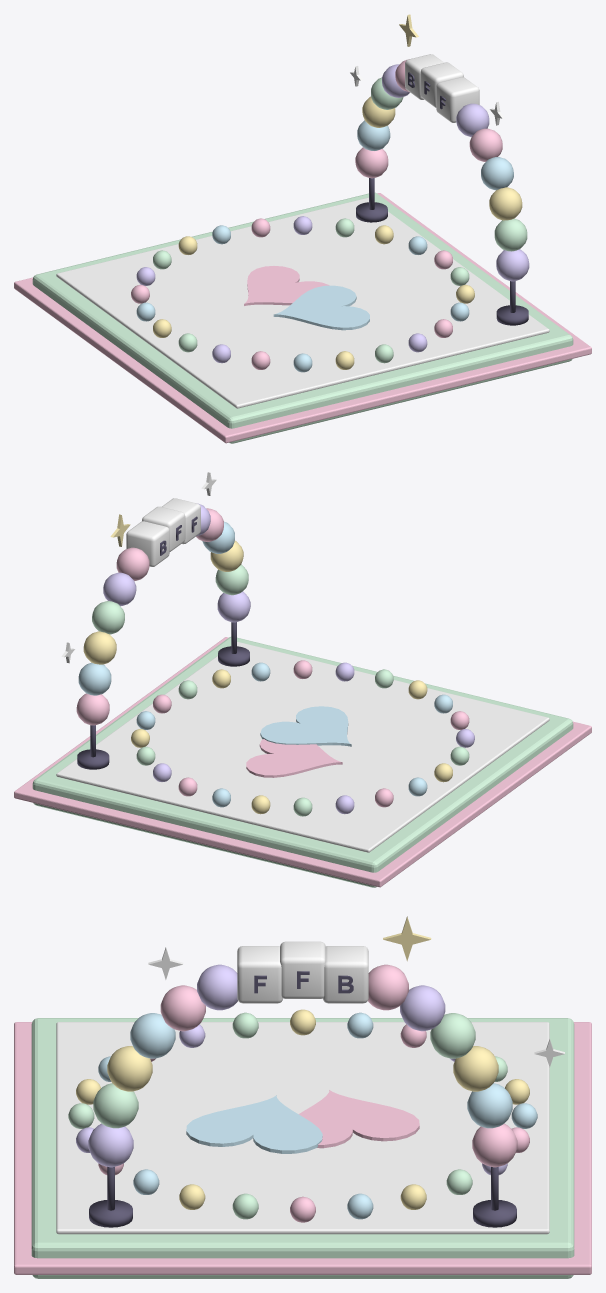
The model's file is FriendshipStage.fbx.
3 renders of one model, top to bottom at view 1: azimuth 30°, elevation 25°; view 2: azimuth 150°, elevation 25°; view 3: azimuth 270°, elevation 25°, orthographic. The views are drawn at different scales.
Visible parts, largest first — view 1: FFFFFF, A7E9B8, FF9EC4_Neon, 9ED8F5, FF9EC4, B9A6FF, FFE07A, 1E1B2E; view 2: FFFFFF, A7E9B8, FF9EC4_Neon, FF9EC4, 9ED8F5, B9A6FF, FFE07A, 1E1B2E; view 3: FFFFFF, A7E9B8, FF9EC4_Neon, 9ED8F5, FF9EC4, FFE07A, B9A6FF, 1E1B2E, FFFFFF_Neon, FFE07A_Neon.
Boxes of the visible parts, x1=… form: FFFFFF: x1=56, y1=54, x2=549, y2=408; A7E9B8: x1=32, y1=77, x2=573, y2=443; FF9EC4_Neon: x1=14, y1=193, x2=591, y2=443; 9ED8F5: x1=136, y1=120, x2=513, y2=372; FF9EC4: x1=131, y1=59, x2=502, y2=369; B9A6FF: x1=136, y1=64, x2=529, y2=363; FFE07A: x1=153, y1=96, x2=522, y2=369; 1E1B2E: x1=356, y1=72, x2=528, y2=325; FFFFFF: x1=56, y1=498, x2=549, y2=852; A7E9B8: x1=32, y1=564, x2=573, y2=887; FF9EC4_Neon: x1=14, y1=637, x2=591, y2=887; FF9EC4: x1=76, y1=508, x2=469, y2=807; 9ED8F5: x1=78, y1=521, x2=452, y2=807; B9A6FF: x1=103, y1=503, x2=474, y2=814; FFE07A: x1=83, y1=540, x2=452, y2=814; 1E1B2E: x1=77, y1=516, x2=249, y2=769; FFFFFF: x1=56, y1=941, x2=549, y2=1234; A7E9B8: x1=31, y1=1012, x2=574, y2=1278; FF9EC4_Neon: x1=14, y1=1022, x2=591, y2=1274; 9ED8F5: x1=98, y1=1012, x2=537, y2=1219; FF9EC4: x1=98, y1=964, x2=529, y2=1222; FFE07A: x1=76, y1=1009, x2=529, y2=1209; B9A6FF: x1=76, y1=964, x2=507, y2=1175; 1E1B2E: x1=89, y1=971, x2=516, y2=1227; FFFFFF_Neon: x1=148, y1=947, x2=564, y2=1067; FFE07A_Neon: x1=383, y1=916, x2=431, y2=961.
Bounding box in the file's own units: 527 × 348 × 527.
